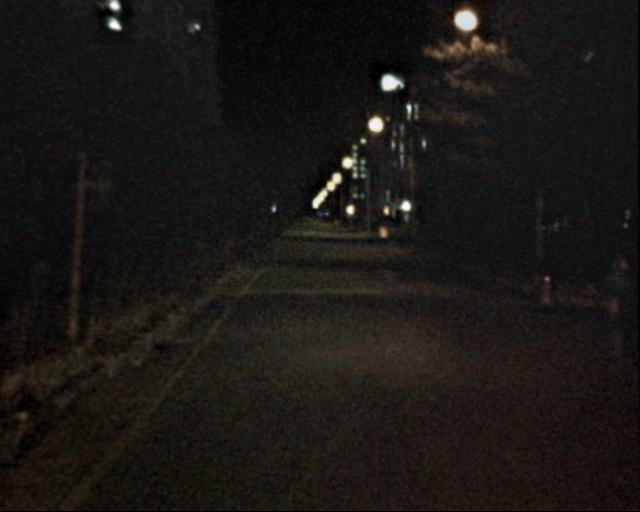person: (600, 253, 640, 361)
